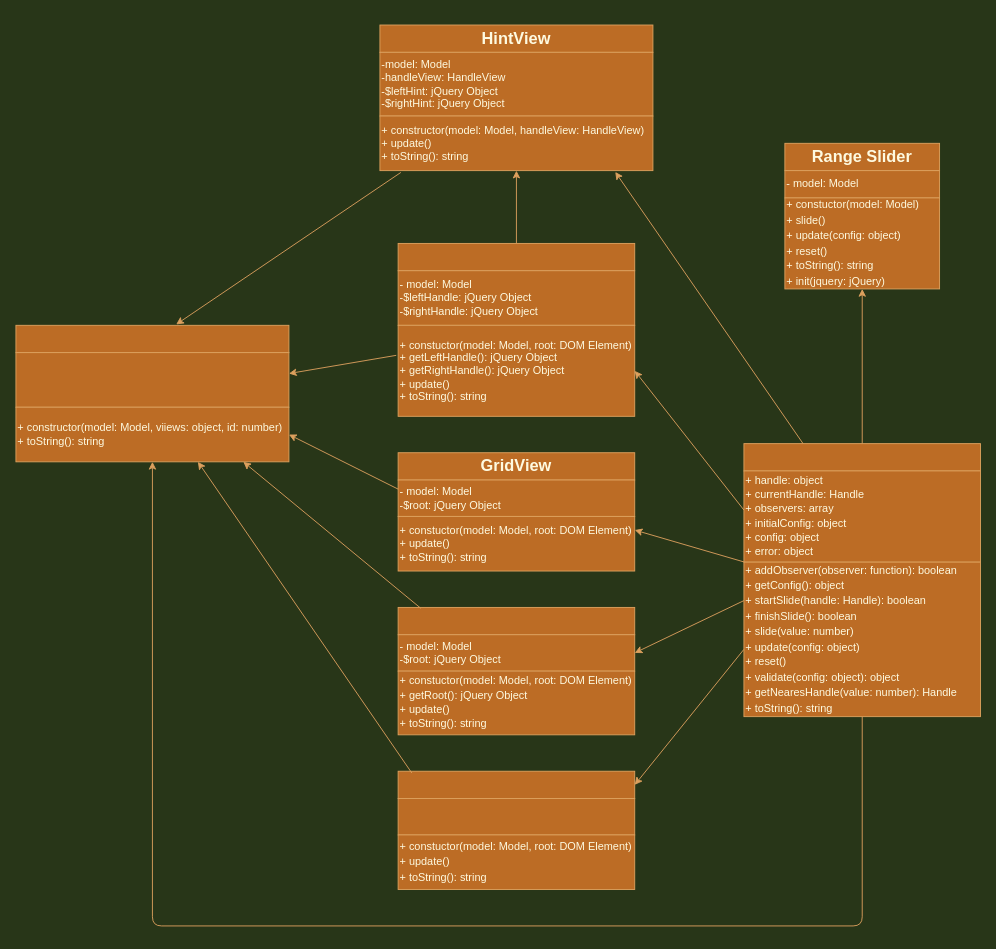
Image size: 996x949. Some labels were removed from this diagram. The shapes that lost their labels are listed below. From the top down, each one's box as (x1, y1, x2, y2) in pixels, then its label:
(397, 243, 635, 271): HadleView
(15, 324, 289, 353): Controller
(15, 352, 289, 407): - model: Model - viiews: object - id: number
(743, 443, 981, 471): Model
(397, 607, 635, 635): MainView
(397, 770, 635, 799): TrackerView
(397, 798, 635, 835): - model: Model -$tracker: jQuery Object
